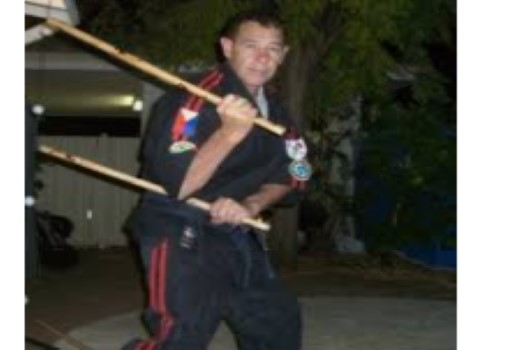baston_e: (62, 14, 220, 113), (46, 135, 215, 224)
baston_v: (248, 215, 282, 240), (268, 114, 293, 142)
